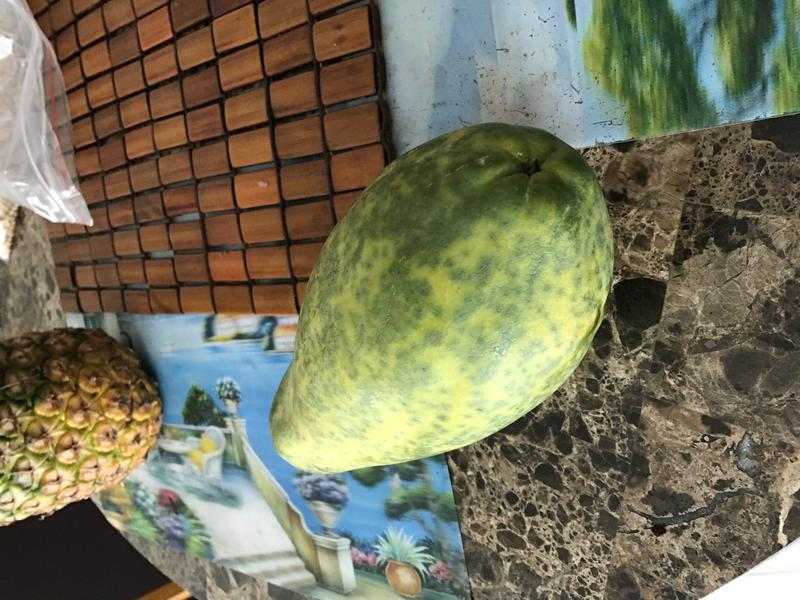papaya: (258, 116, 624, 487)
